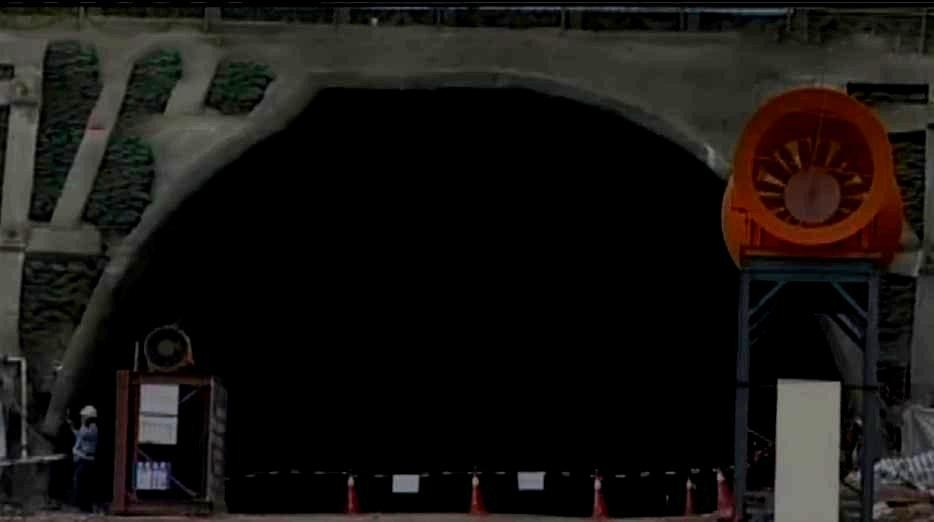helmet: (78, 404, 97, 425)
